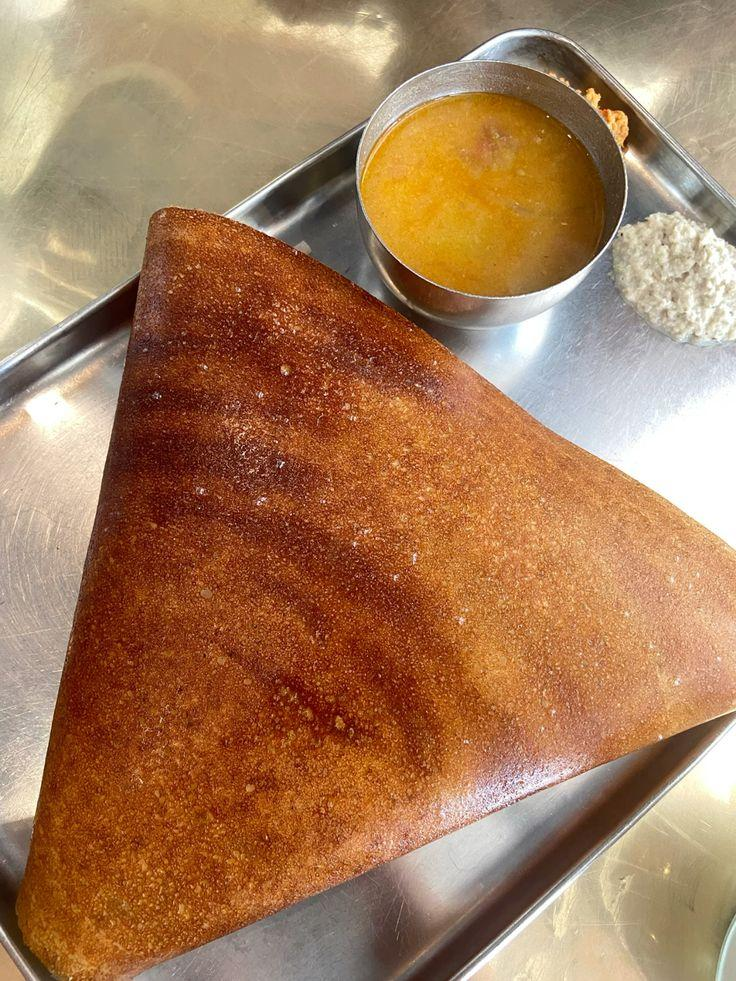dosa: (3, 219, 736, 933)
